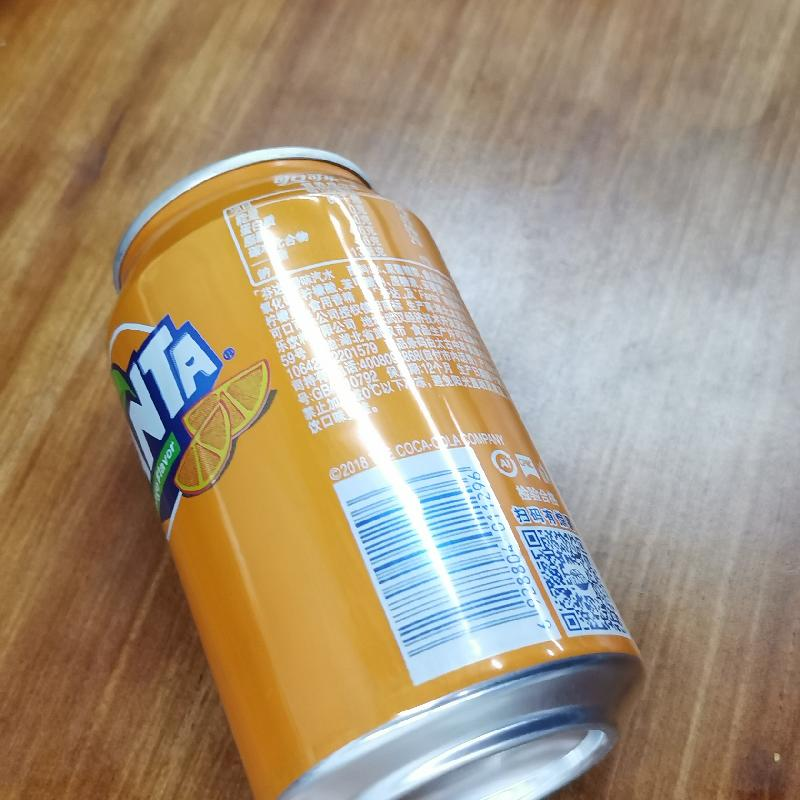cans: (94, 139, 649, 800)
